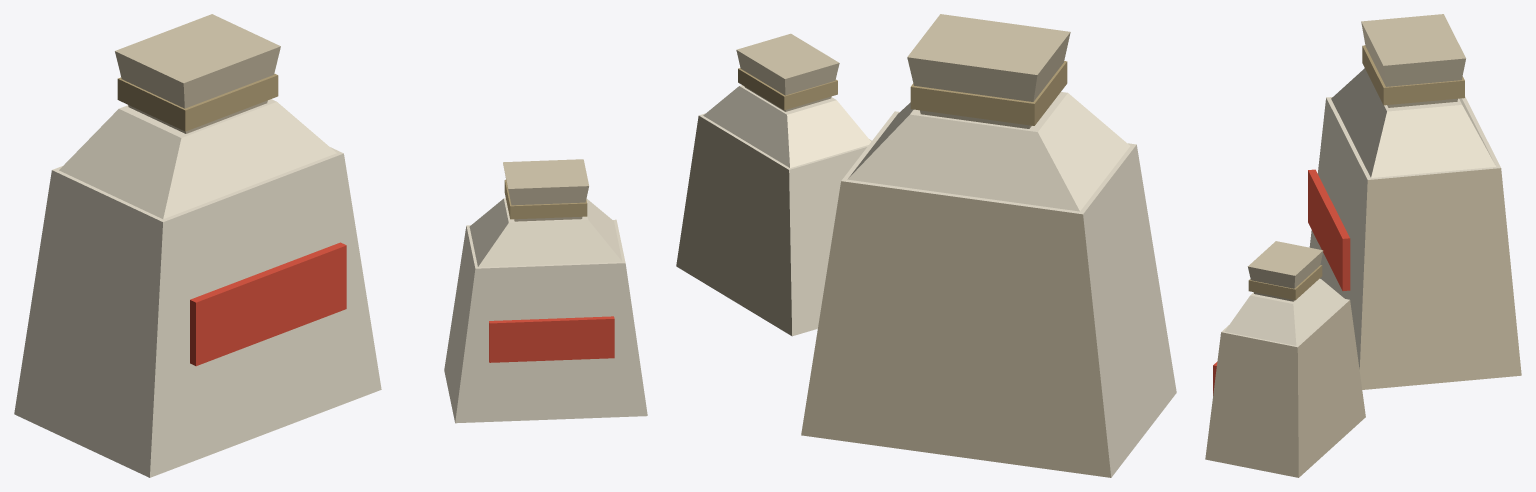
File: flour.glb
3 views of the same model, side by side, from view 1: azimuth 30°, elevation 25°; view 2: azimuth 150°, elevation 25°; view 3: azimuth 270°, elevation 25° (orthographic). The views are drawn at different scales.
Visible parts, largest first — view 1: flour; view 2: flour; view 3: flour.
Part boxes in pixels (left/top/right/bottom): flour: left=14, top=14, right=647, bottom=477; flour: left=676, top=14, right=1176, bottom=477; flour: left=1205, top=14, right=1521, bottom=477.
Bounding box in the file's own units: 0.3846 × 0.25 × 0.2471.
Materials: 1 (1 with a texture image).
